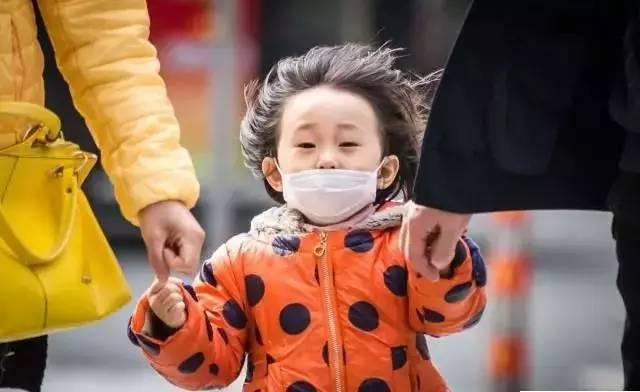WRONG: (279, 111, 380, 226)
